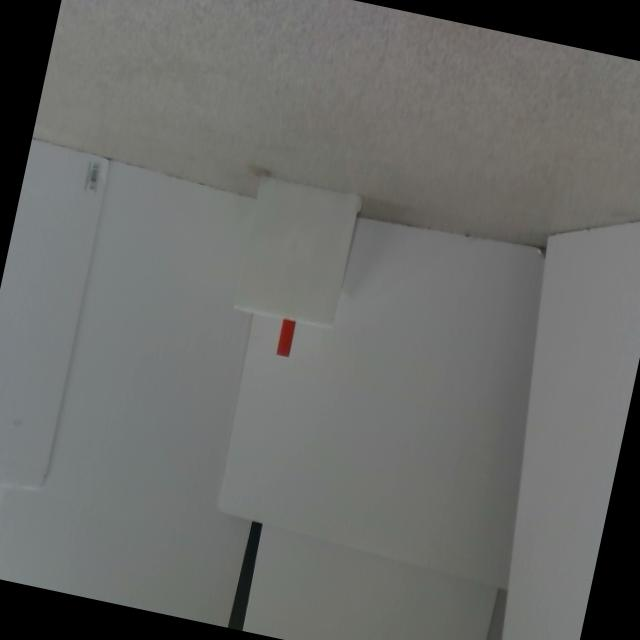red_cylinder: (276, 320, 296, 358)
